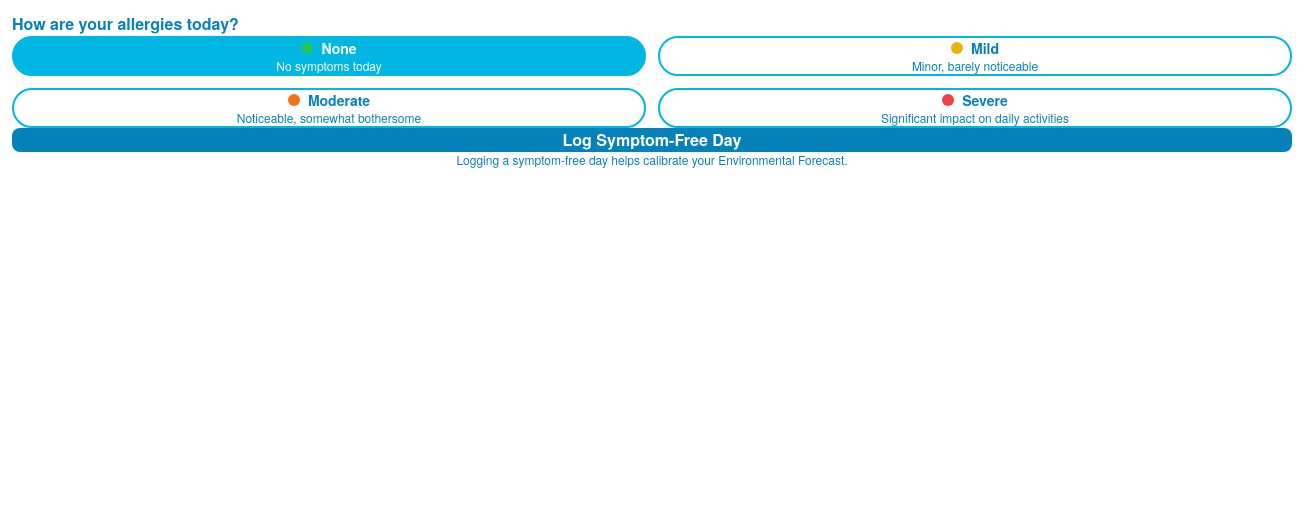
Test: CheckinForm › shows symptom zones when severity > 0
The width and height of the screenshot is (1304, 525).
Click the radio button with test id "severity-1".
click(975, 56)  # box [658,36,1292,76]
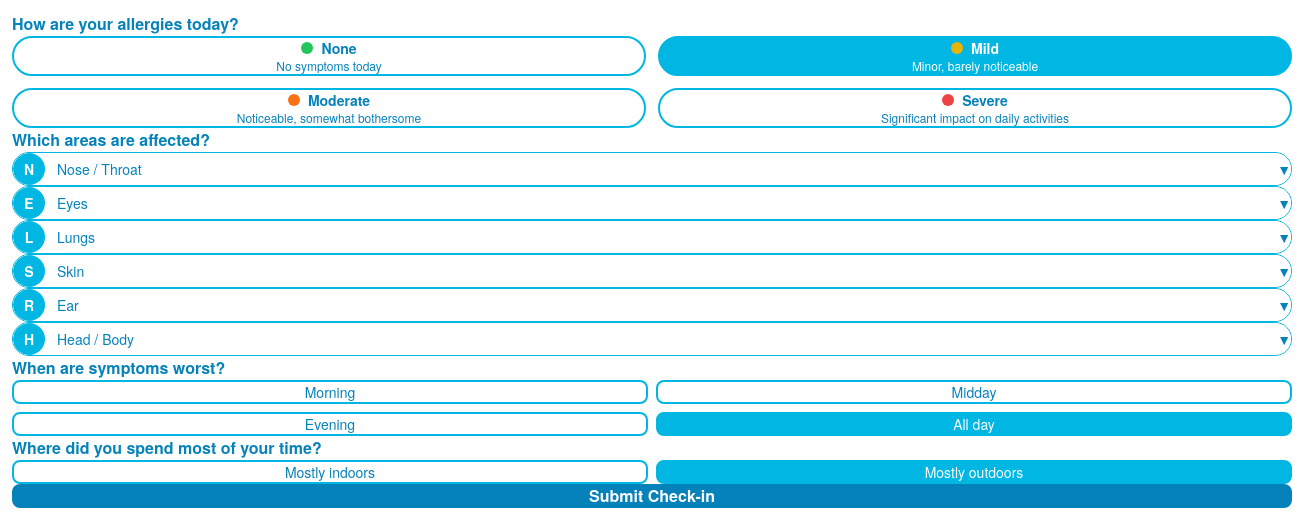
Now the text "Which areas are affected?" is shown, box [12,128,210,152]
